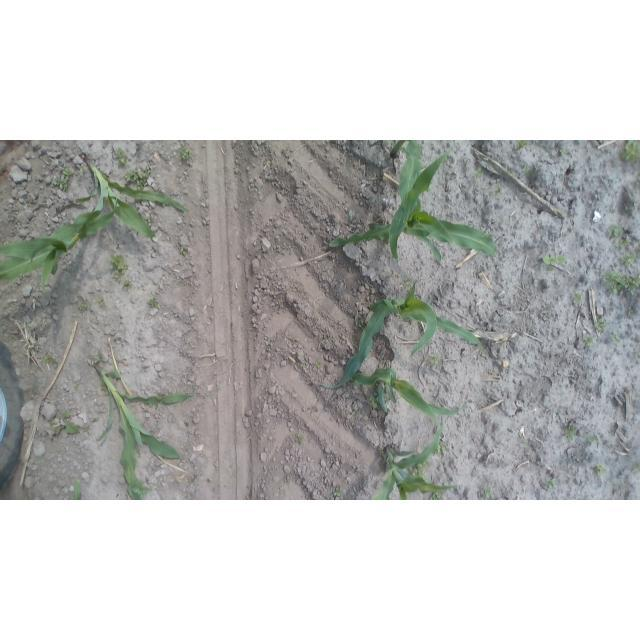Maize: (328, 140, 501, 266), (319, 276, 488, 388), (90, 359, 203, 500), (0, 195, 120, 303), (77, 147, 187, 242), (351, 365, 468, 423), (367, 422, 450, 500)
Weeds: (603, 270, 640, 297), (47, 412, 82, 439), (125, 167, 156, 192), (107, 255, 133, 281), (541, 253, 570, 272), (52, 165, 73, 189), (620, 141, 640, 160), (178, 146, 195, 167), (133, 480, 151, 499), (433, 439, 450, 458), (409, 464, 429, 480), (113, 147, 129, 167), (608, 222, 627, 238), (593, 462, 609, 481), (563, 424, 578, 444), (479, 484, 496, 501), (593, 317, 609, 334), (490, 180, 507, 196), (75, 299, 91, 316), (621, 255, 640, 268), (614, 237, 633, 250), (331, 485, 346, 500), (45, 355, 60, 370), (544, 477, 561, 490), (368, 394, 381, 411), (608, 330, 620, 347), (147, 296, 162, 309), (93, 296, 109, 308), (583, 335, 597, 348), (471, 167, 485, 180), (515, 140, 532, 150), (586, 434, 603, 444), (94, 350, 107, 363), (120, 279, 133, 292), (178, 243, 190, 257), (521, 440, 534, 452), (294, 432, 305, 446), (572, 291, 583, 305), (429, 492, 445, 501), (431, 354, 442, 367), (314, 358, 324, 371), (625, 306, 636, 317), (634, 458, 640, 477), (25, 343, 35, 354), (402, 278, 411, 289), (557, 147, 568, 156), (348, 208, 355, 221), (522, 165, 531, 174), (386, 270, 394, 279), (635, 174, 640, 188), (350, 411, 357, 418), (636, 347, 640, 357)
